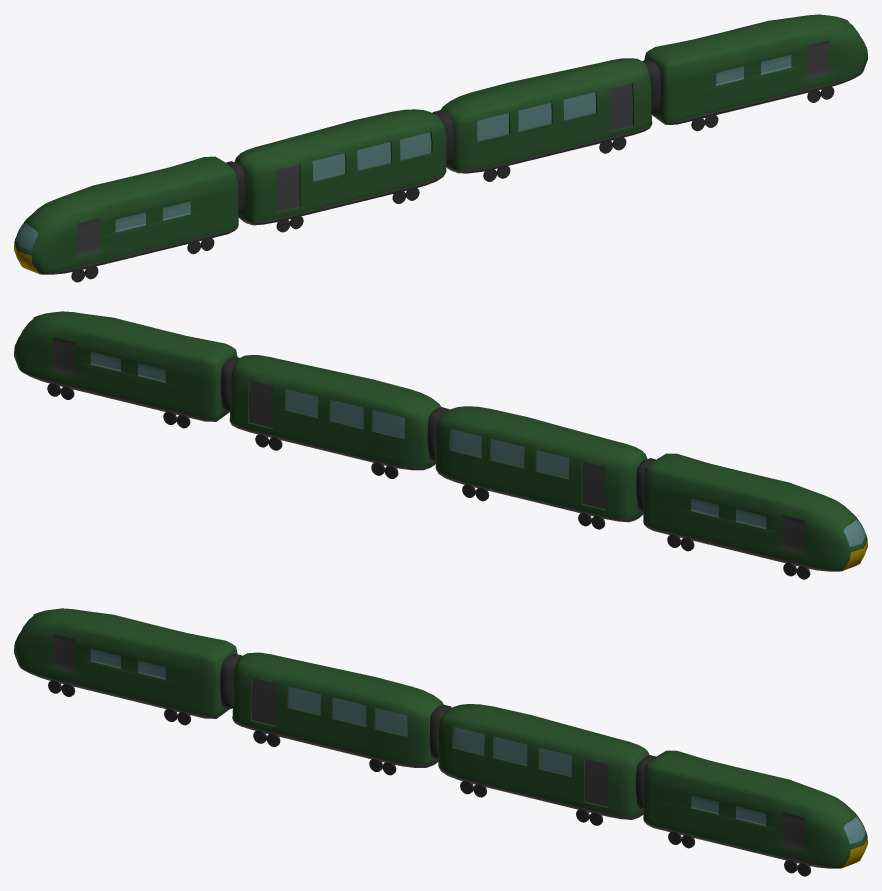
Rendered from train.fbx.
The picture shows the model from 3 angles, top to bottom: view 1: azimuth 30°, elevation 25°; view 2: azimuth 150°, elevation 25°; view 3: azimuth 330°, elevation 25°; orthographic projection.
Parts seen in each view (by area): view 1: pasted__frontCart, pasted__cart1, cart1, frontCart, connecter1; view 2: pasted__frontCart, pasted__cart1, cart1, frontCart, connecter1; view 3: frontCart, cart1, pasted__cart1, pasted__frontCart, pasted__connecter1.
Part boxes in pixels (x1,y1,x2,y2): pasted__frontCart: [14, 156, 238, 274]; pasted__cart1: [234, 109, 447, 225]; cart1: [441, 58, 652, 173]; frontCart: [644, 14, 867, 124]; connecter1: [642, 59, 660, 114]; pasted__frontCart: [643, 453, 867, 571]; pasted__cart1: [434, 406, 647, 522]; cart1: [229, 355, 440, 470]; frontCart: [14, 311, 237, 421]; connecter1: [221, 356, 239, 411]; frontCart: [643, 750, 867, 868]; cart1: [437, 704, 649, 819]; pasted__cart1: [232, 652, 443, 767]; pasted__frontCart: [14, 608, 237, 718]; pasted__connecter1: [220, 653, 241, 708].
Bounding box in the file's own units: 134 × 11.65 × 7.13.
